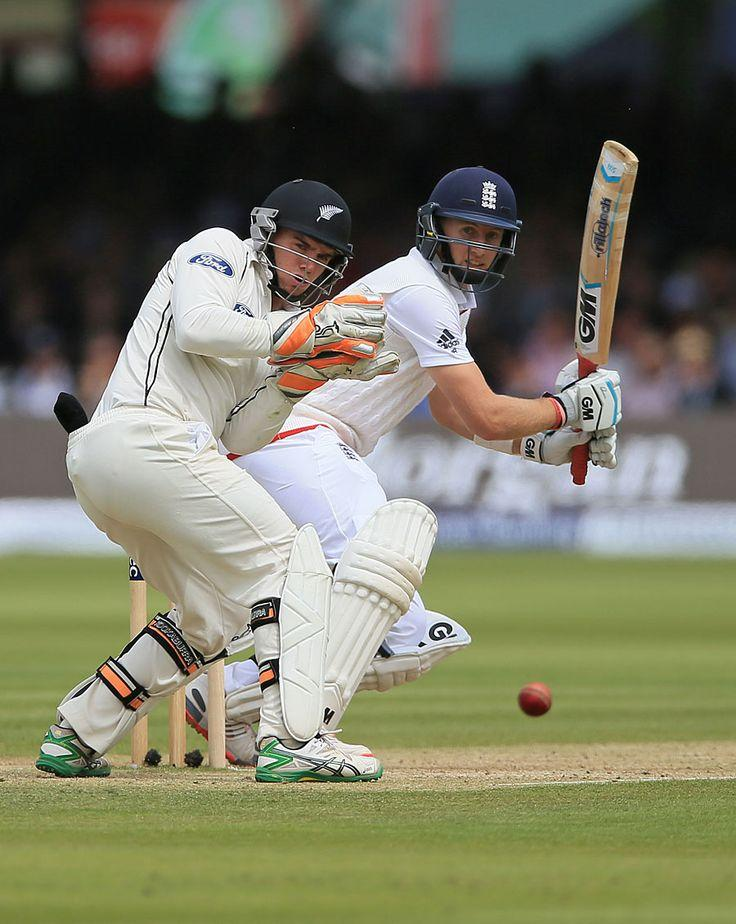batsman: (278, 119, 608, 704)
